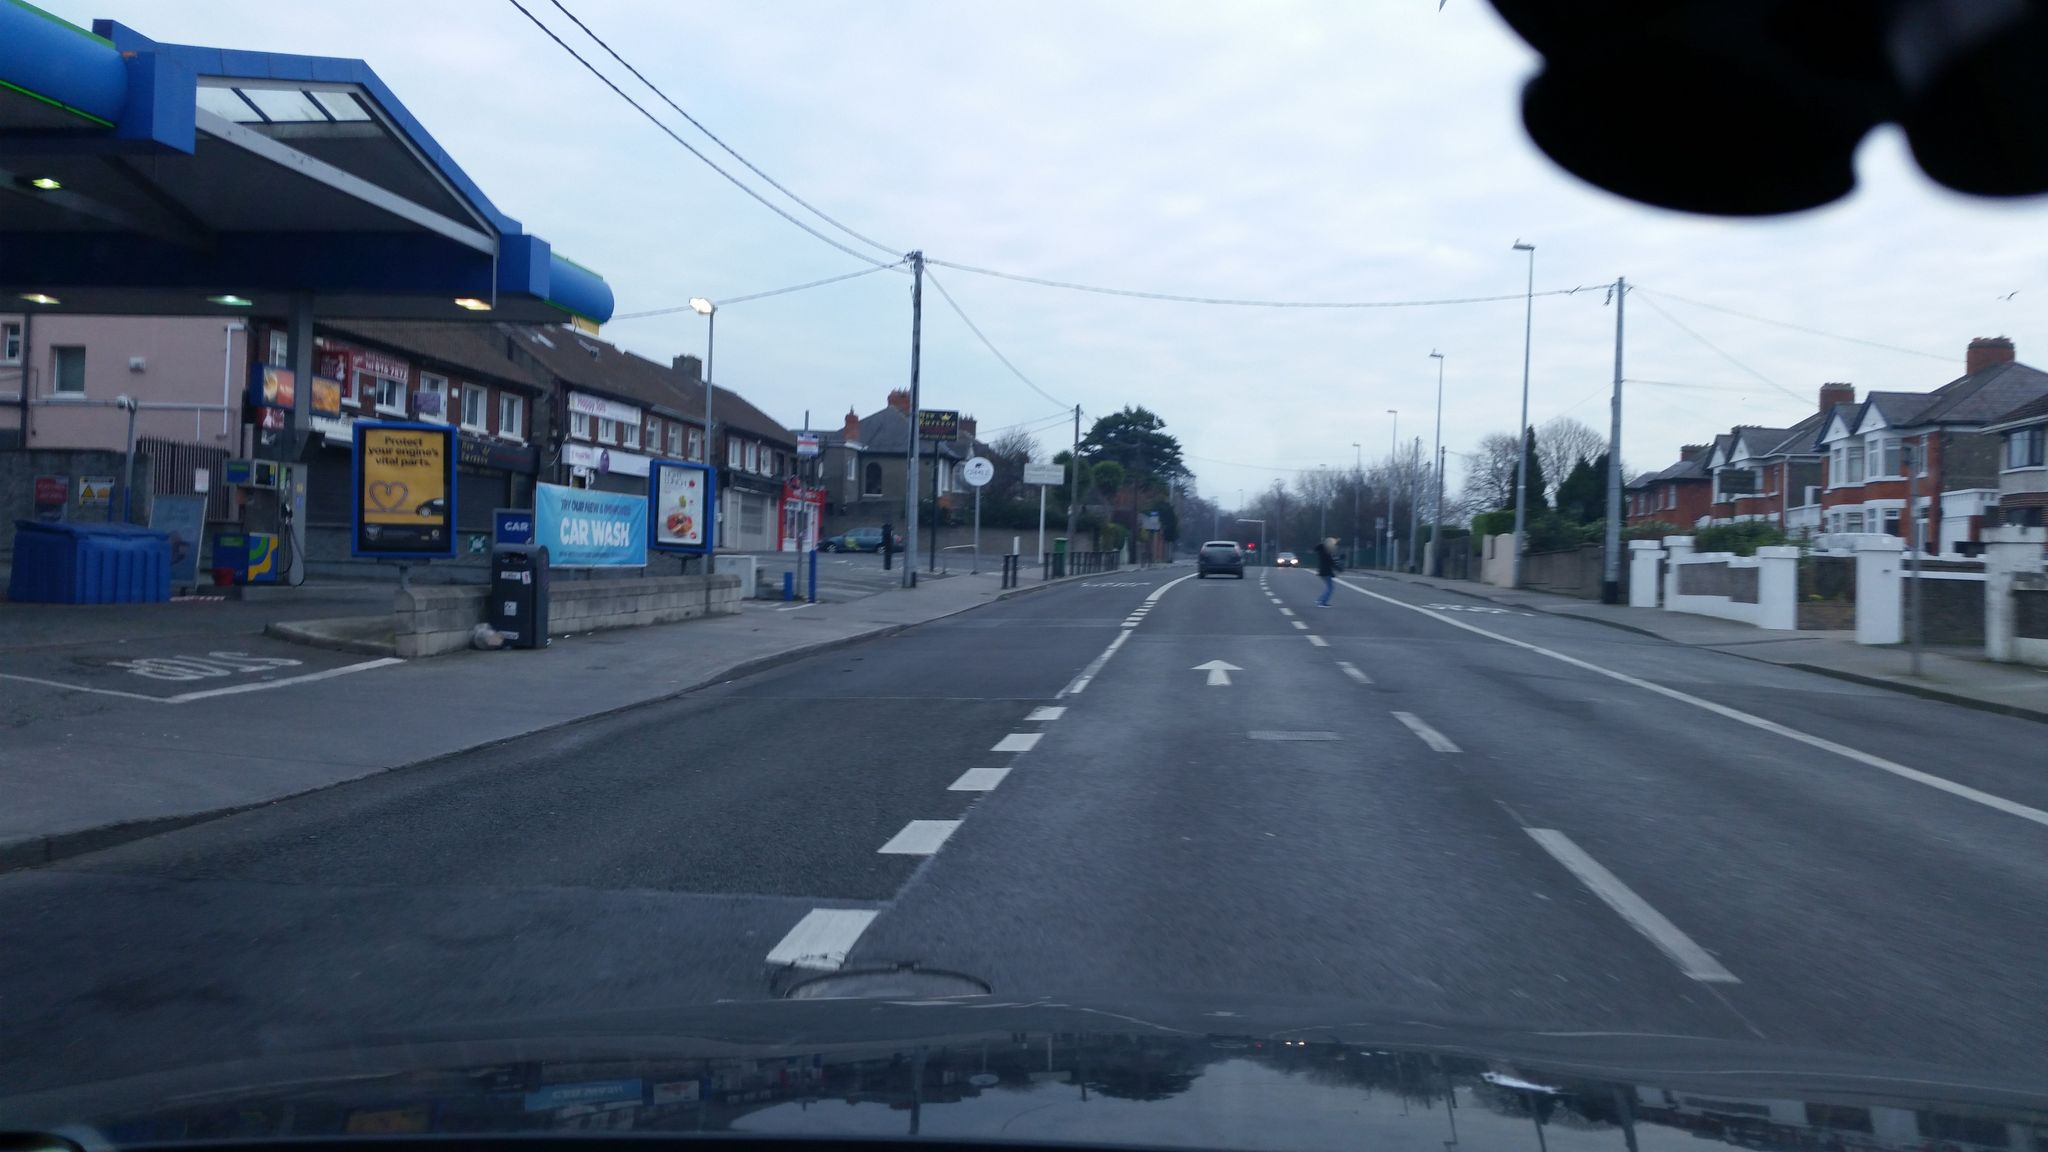vinyl banner: (520, 471, 653, 570)
